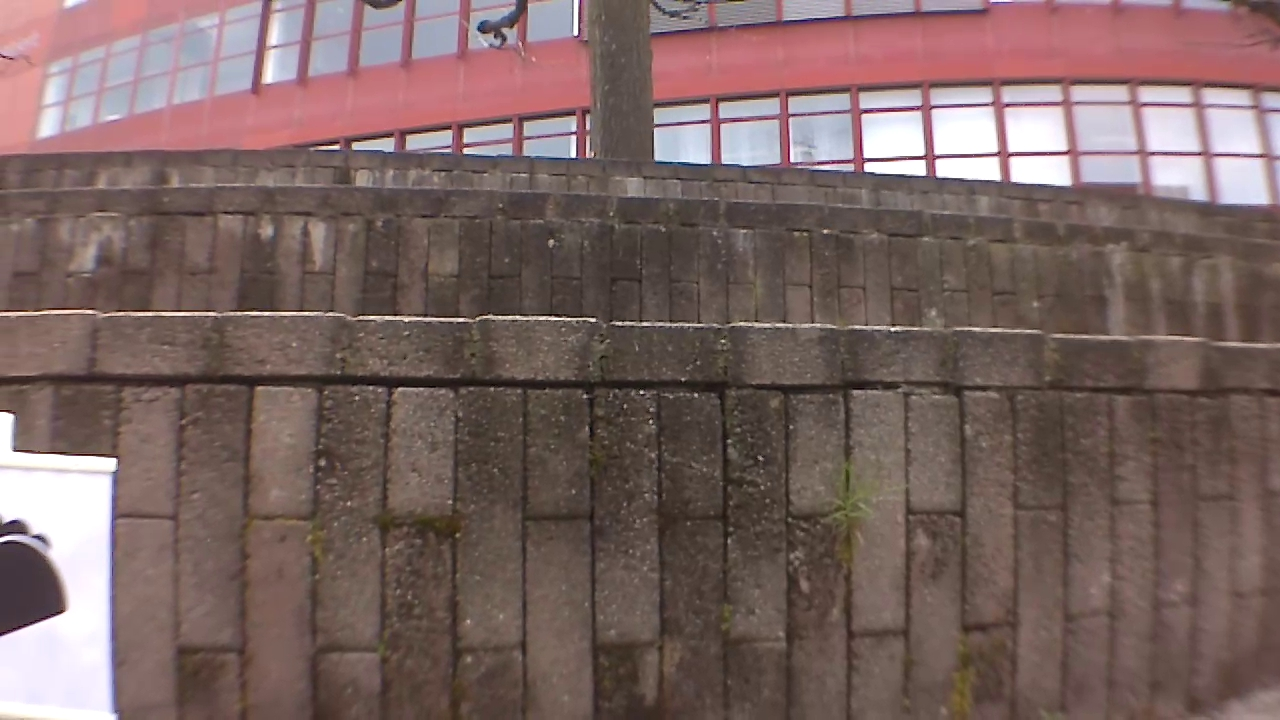taco: (0, 508, 77, 661)
